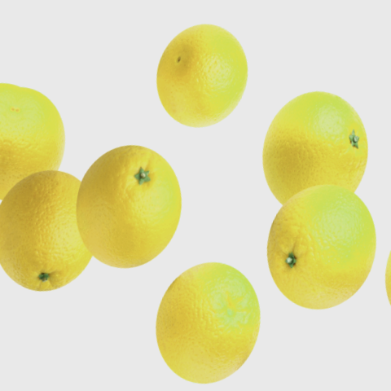orange: (249, 165, 391, 329), (247, 72, 387, 232), (126, 242, 275, 391), (59, 125, 198, 283), (0, 148, 118, 322), (142, 11, 266, 139), (0, 78, 89, 216)
